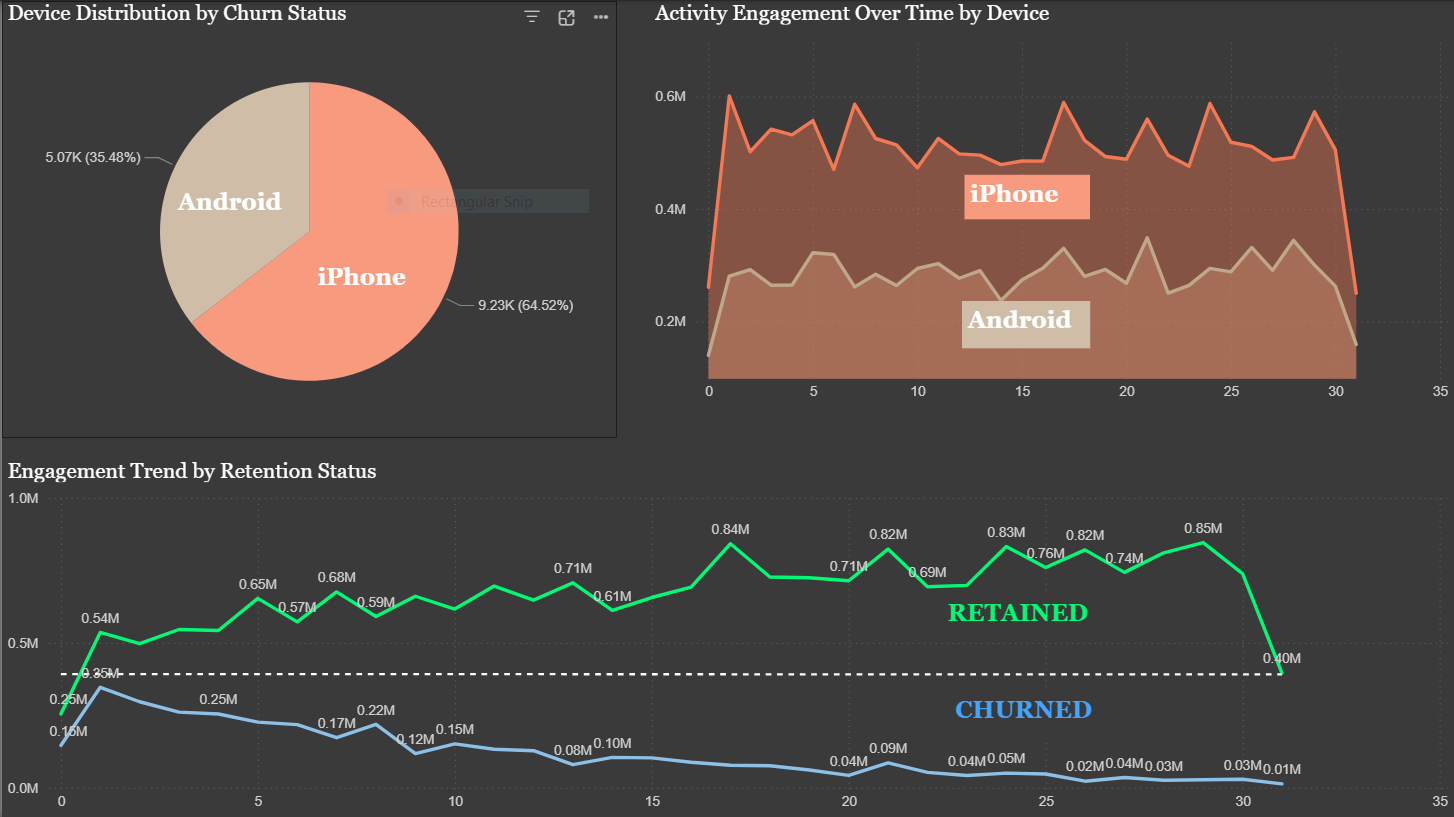

The page's visual inventory and layout, read from the dashboard file:
{"tool":"powerbi","page":{"name":"Page 1","canvas":[1280,720],"ordinal":0},"visuals":[{"type":"lineChart","title":"Engagement Trend by Retention Status","fields":{"Category":["waze_dataset.activity_days"],"Series":["waze_dataset.label"],"Y":["Sum(waze_dataset.n_days_after_onboarding)"]},"box":[0,402.5,1279.8,317.8],"z":1},{"type":"textbox","box":[827,521.5,148.5,40.5],"z":2},{"type":"textbox","box":[833.1,607.4,136.2,42.9],"z":3},{"type":"pieChart","title":"Device Distribution by Churn Status","fields":{"Category":["waze_dataset.device"],"Y":["CountNonNull(waze_dataset.label)"]},"box":[0,0,541.1,385.3],"z":4},{"type":"textbox","box":[273.1,225,111.1,39.8],"z":5},{"type":"textbox","box":[149.7,159.5,112.9,41.7],"z":6},{"type":"areaChart","title":"Activity Engagement Over Time by Device","fields":{"Category":["waze_dataset.activity_days"],"Y":["Sum(waze_dataset.n_days_after_onboarding)"],"Series":["waze_dataset.device"]},"box":[569.3,0,710.4,359.5],"z":7},{"type":"textbox","box":[846.6,153.4,110.4,39.3],"z":8},{"type":"textbox","box":[844.2,263.8,112.9,41.7],"z":9}]}

Visuals, with their boxes in screenshot pixels (x1, y1, x2, y2), scaled from the page's 1280x720 canvas onto the 1454x817 screenshot:
"Engagement Trend by Retention Status" lineChart: 0, 457, 1453, 816
textbox: 939, 592, 1108, 638
textbox: 946, 689, 1101, 738
"Device Distribution by Churn Status" pieChart: 0, 0, 615, 437
textbox: 310, 255, 436, 300
textbox: 170, 181, 298, 228
"Activity Engagement Over Time by Device" areaChart: 647, 0, 1453, 408
textbox: 962, 174, 1087, 219
textbox: 959, 299, 1087, 347
